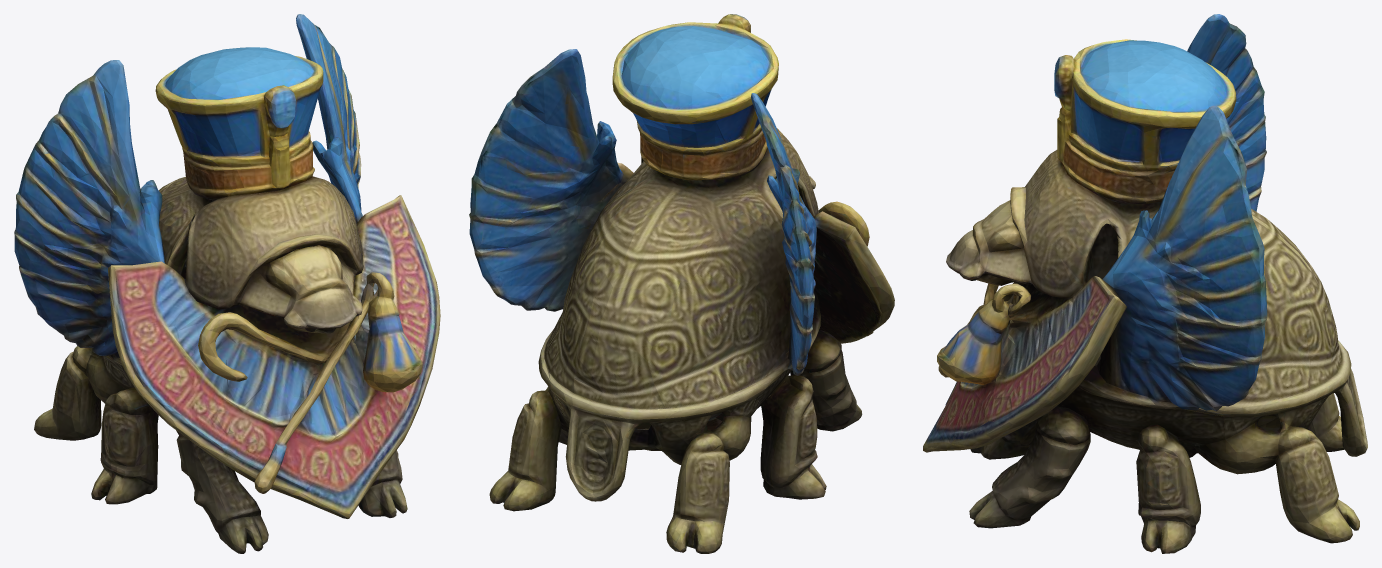
Rendered from solenne__pharaohsScarab.glb.
The picture shows the model from 3 angles, left to right: view 1: azimuth 30°, elevation 25°; view 2: azimuth 150°, elevation 25°; view 3: azimuth 270°, elevation 25°; orthographic projection. The views are drawn at different scales.
Visible parts, largest first — view 1: world; view 2: world; view 3: world.
Part boxes in pixels (x1,y1,x2,y2): world: (14,14,440,553); world: (469,14,894,553); world: (923,14,1367,553).
Size of the model in its own units: 0.636 by 0.735 by 0.6895.
Materials: 1 (1 with a texture image).
